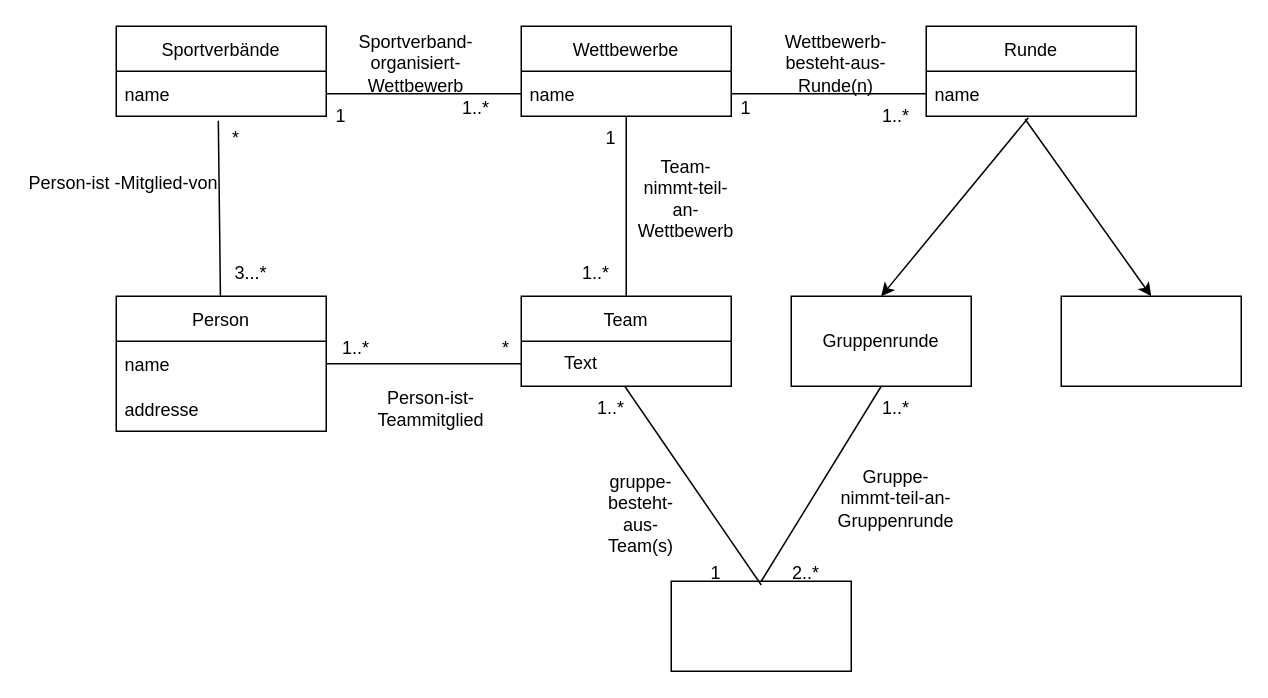
This 1268x698 diagram has some shape labels left out. The shapes that lost their labels are listed below. From the top down, each one's centre as x and y in pixels, then its label:
At (1150,340): "Knockoutrunde".
At (760,625): "Gruppe".
